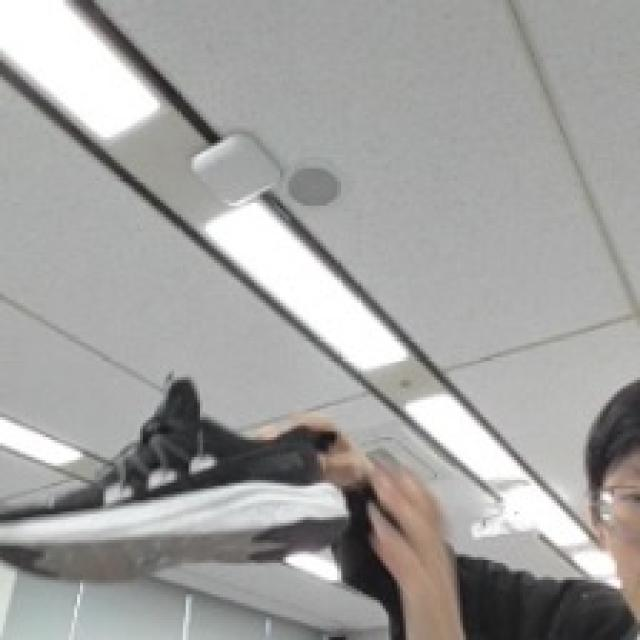shoe: (0, 356, 373, 567)
